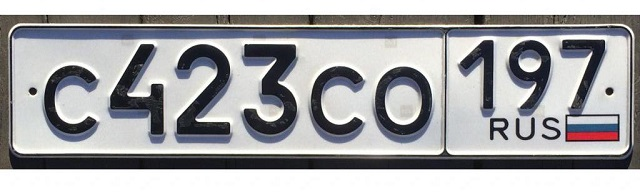number_plate: (15, 32, 627, 152)
